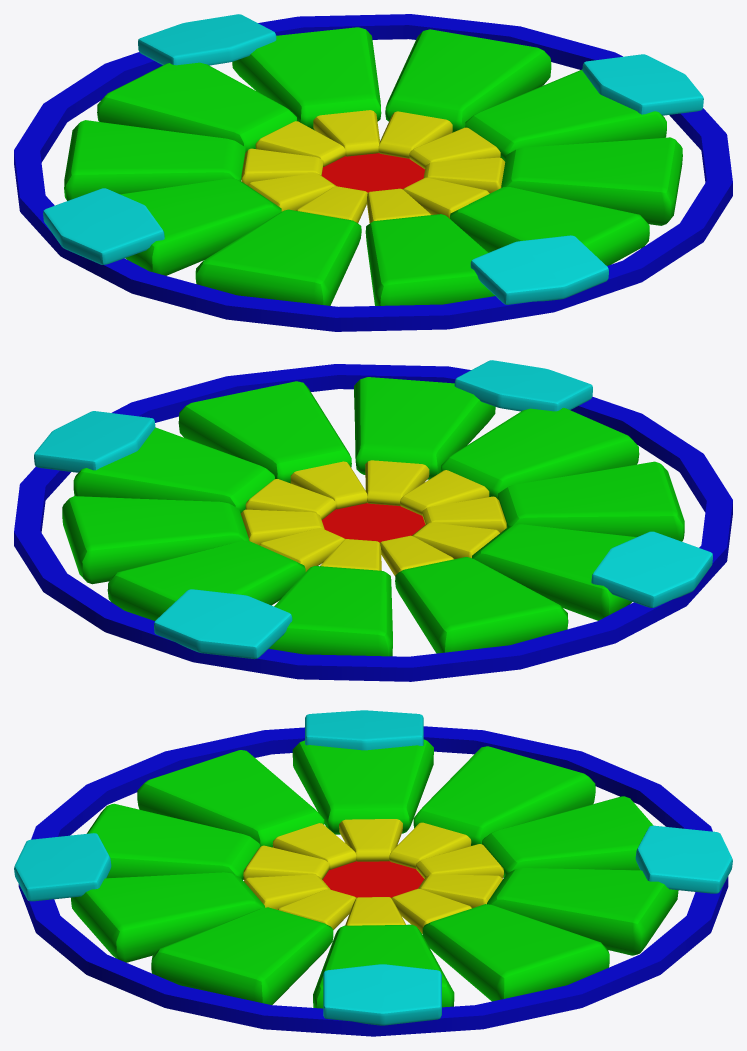
File: Rank1Generator.fbx
3 views of the same model, one above another, from view 1: azimuth 30°, elevation 25°; view 2: azimuth 150°, elevation 25°; view 3: azimuth 270°, elevation 25° (orthographic).
Visible parts, largest first — view 1: rune_circle; view 2: rune_circle; view 3: rune_circle.
Part boxes in pixels (bbox=[...]): rune_circle: bbox=[14, 14, 732, 331]; rune_circle: bbox=[14, 360, 732, 681]; rune_circle: bbox=[14, 710, 732, 1036].
Size of the model in its own units: 335 by 23.02 by 335.
